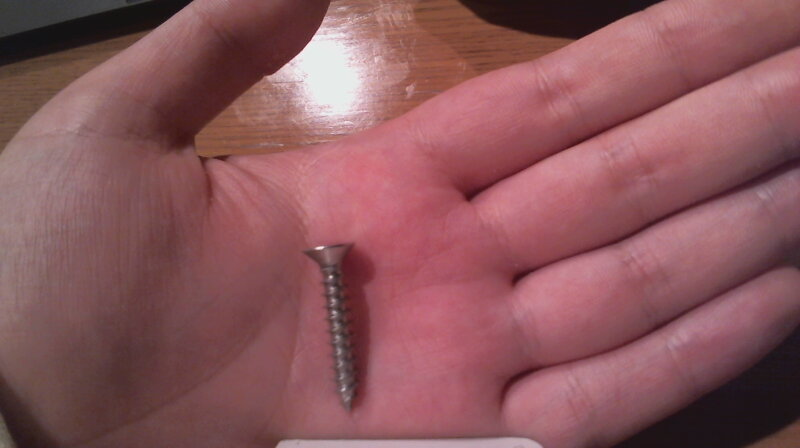S001: (302, 242, 361, 414)
